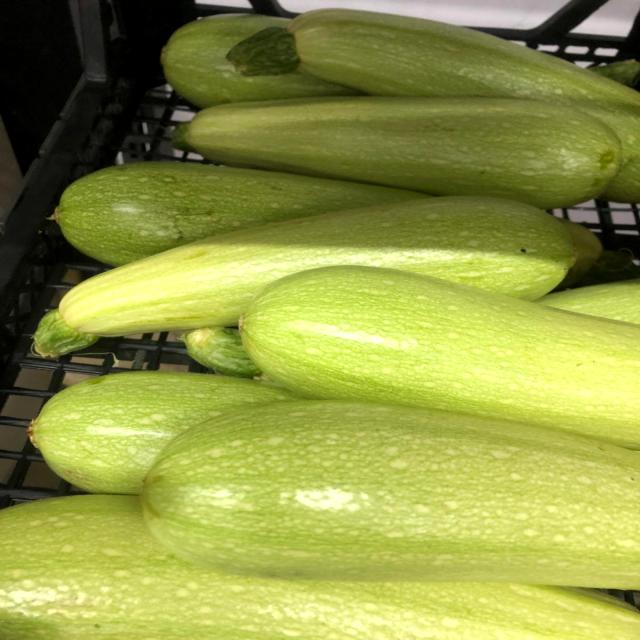zucchini: (27, 191, 580, 362), (167, 86, 625, 208)
